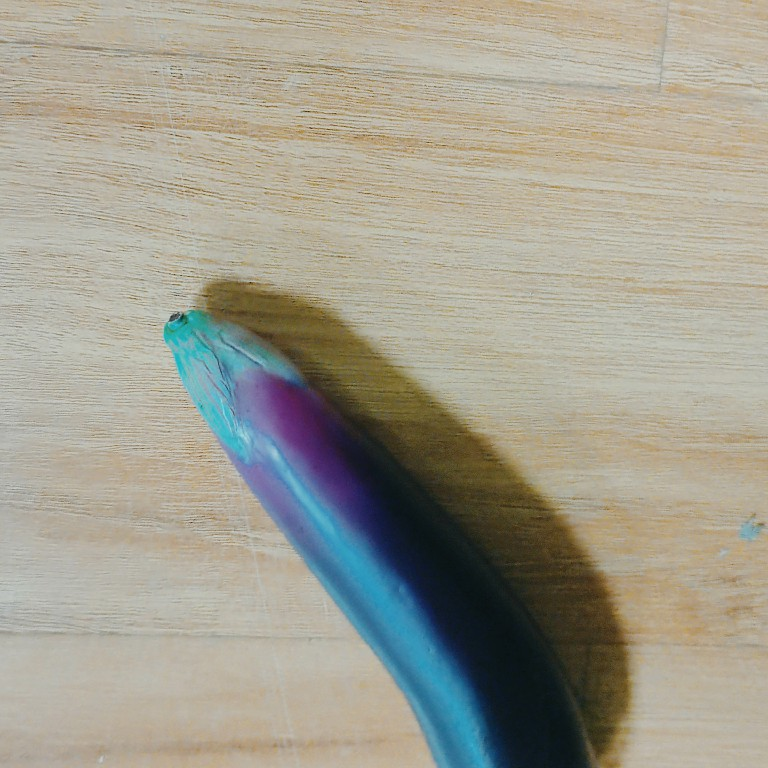fruit_eggplant: (159, 298, 602, 768)
